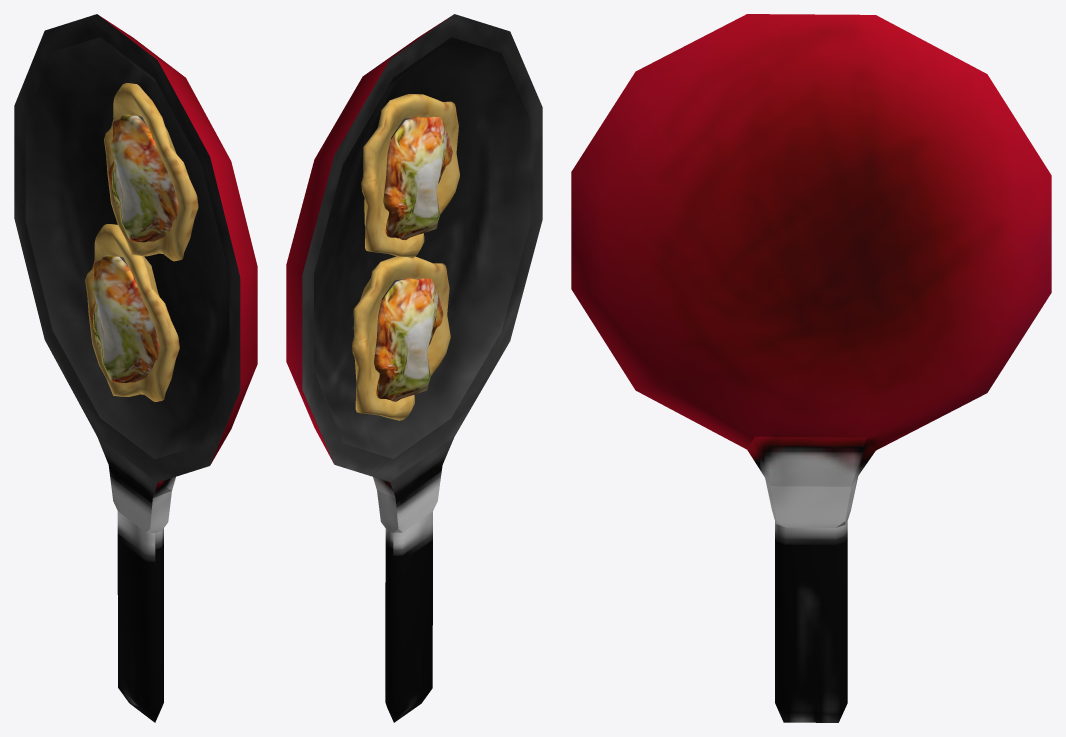
The model's file is AL_Sopes_Static.fbx.
The picture shows the model from 3 angles, left to right: view 1: azimuth 30°, elevation 25°; view 2: azimuth 150°, elevation 25°; view 3: azimuth 270°, elevation 25°; orthographic projection. The views are drawn at different scales.
Parts seen in each view (by area): view 1: Taco.002; view 2: Taco.002; view 3: Taco.002.
Part boxes in pixels (x1,y1,x2,y2): Taco.002: [14, 14, 257, 722]; Taco.002: [286, 14, 542, 722]; Taco.002: [571, 14, 1051, 722].
Size of the model in its own units: 0.4341 by 0.6984 by 0.0669.
